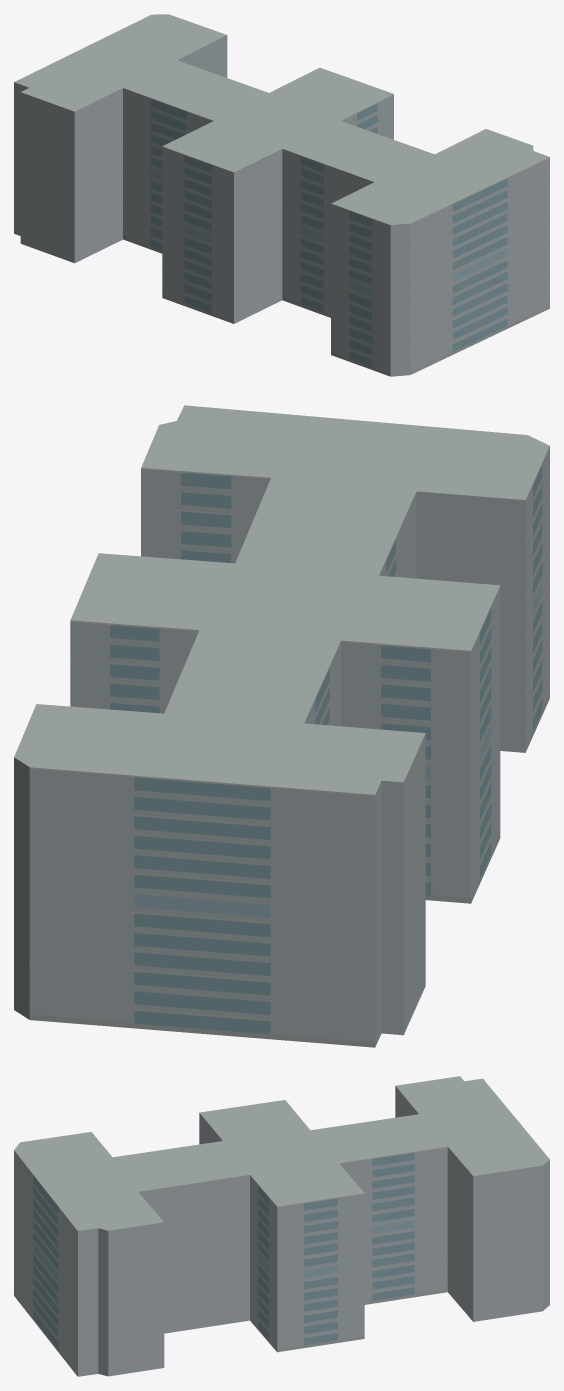
The model's file is residential-0bd67f0b-5ea9-4dac-9151-b49dbdb743a7.glb.
The picture shows the model from 3 angles, top to bottom: view 1: azimuth 30°, elevation 25°; view 2: azimuth 150°, elevation 25°; view 3: azimuth 270°, elevation 25°; orthographic projection. The views are drawn at different scales.
Parts seen in each view (by area): view 1: residential-0bd67f0b-5ea9-4dac-9151-b49dbdb743a7.tmp; view 2: residential-0bd67f0b-5ea9-4dac-9151-b49dbdb743a7.tmp; view 3: residential-0bd67f0b-5ea9-4dac-9151-b49dbdb743a7.tmp.
Part boxes in pixels (x1,y1,x2,y2): residential-0bd67f0b-5ea9-4dac-9151-b49dbdb743a7.tmp: (14, 14, 549, 376); residential-0bd67f0b-5ea9-4dac-9151-b49dbdb743a7.tmp: (14, 405, 549, 1047); residential-0bd67f0b-5ea9-4dac-9151-b49dbdb743a7.tmp: (14, 1076, 549, 1376).
Bounding box in the file's own units: 93.51 × 41 × 137.
